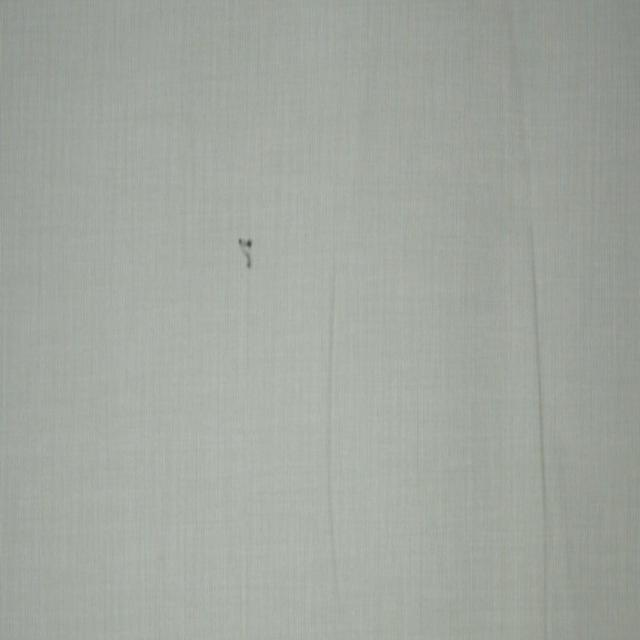dirty: (237, 235, 254, 272)
